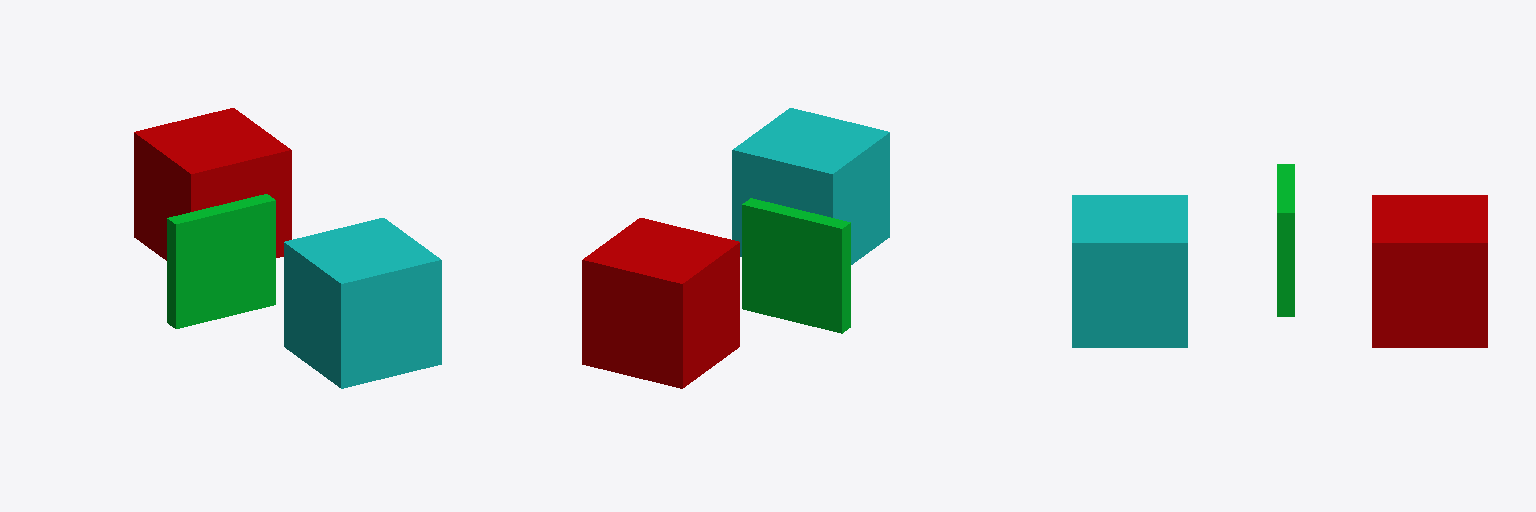
The model's file is transparency_scene.obj.
The picture shows the model from 3 angles: view 1: azimuth 30°, elevation 25°; view 2: azimuth 150°, elevation 25°; view 3: azimuth 270°, elevation 25°; orthographic projection.
Parts seen in each view (by area): view 1: Cube, Cube.001, Cube.002; view 2: Cube.001, Cube, Cube.002; view 3: Cube, Cube.001, Cube.002.
Boxes of the visible parts, x1,y1,x2,y2 form: Cube: [284, 218, 441, 388]; Cube.001: [134, 108, 291, 260]; Cube.002: [167, 194, 275, 328]; Cube.001: [582, 218, 739, 388]; Cube: [732, 108, 889, 264]; Cube.002: [742, 198, 850, 333]; Cube: [1072, 195, 1187, 347]; Cube.001: [1372, 195, 1487, 347]; Cube.002: [1277, 164, 1294, 316].
Bounding box in the file's own units: 0.7352 × 0.4509 × 1.62.